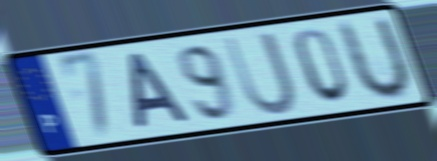0: (290, 26, 350, 107)
7: (54, 47, 115, 146)
9: (176, 43, 239, 122)
A: (127, 49, 195, 133)
U: (219, 29, 299, 119), (335, 13, 413, 105)
